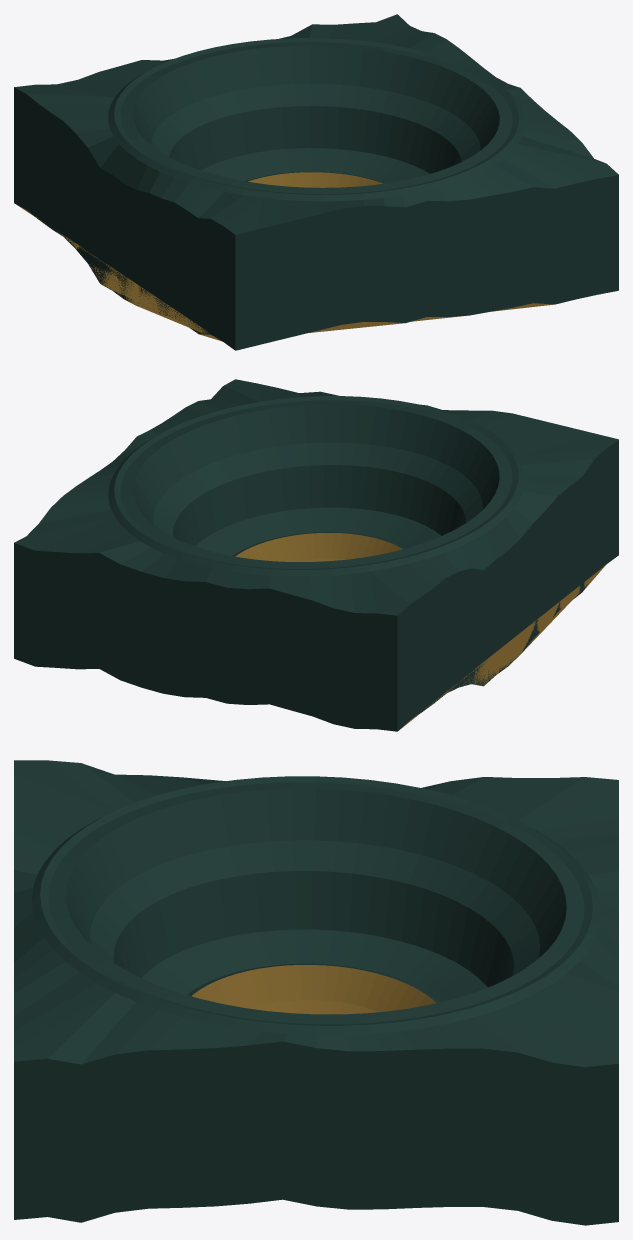
The model's file is Pit Tile Final Center.fbx.
3 renders of one model, top to bottom at view 1: azimuth 30°, elevation 25°; view 2: azimuth 150°, elevation 25°; view 3: azimuth 270°, elevation 25°, orthographic. The views are drawn at different scales.
Parts seen in each view (by area): view 1: Center Pit Tile; view 2: Center Pit Tile; view 3: Center Pit Tile.
Boxes of the visible parts, x1,y1,x2,y2 form: Center Pit Tile: (14, 14, 618, 350); Center Pit Tile: (14, 379, 618, 731); Center Pit Tile: (14, 760, 618, 1225).
Bounding box in the file's own units: 200 × 76.54 × 200.
